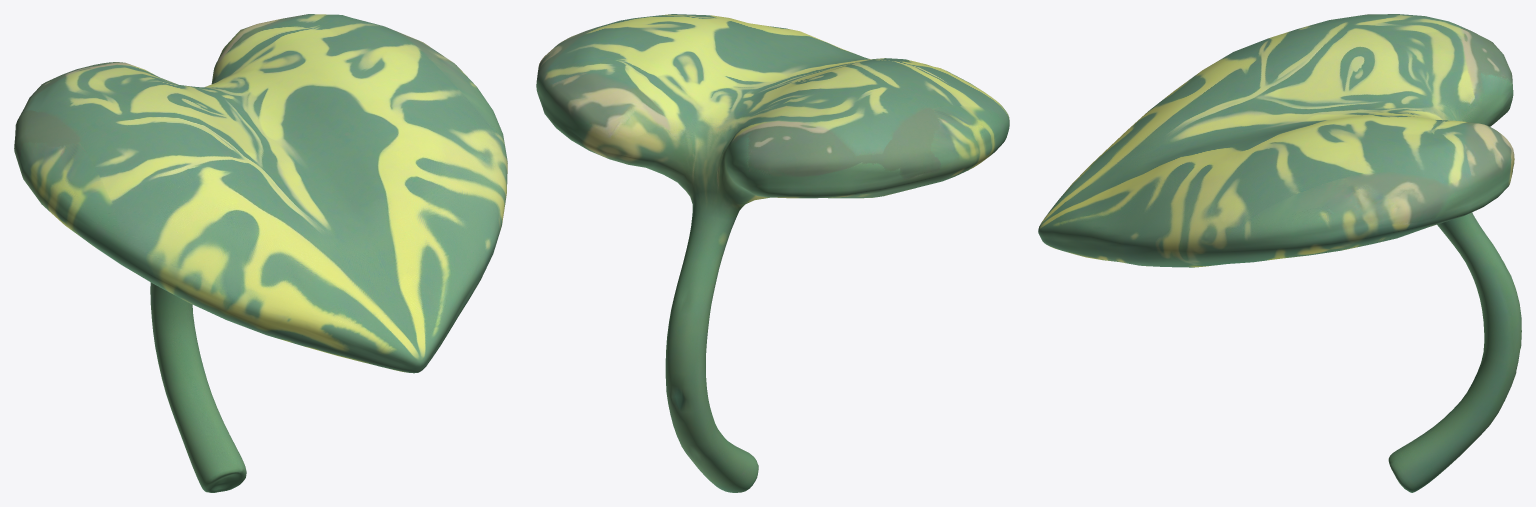
File: pothos_marble_greenyellow.glb
3 views of the same model, side by side, from view 1: azimuth 30°, elevation 25°; view 2: azimuth 150°, elevation 25°; view 3: azimuth 270°, elevation 25° (orthographic). The views are drawn at different scales.
Size of the model in its own units: 1.93 by 1.86 by 2.
Materials: 1 (1 with a texture image).
